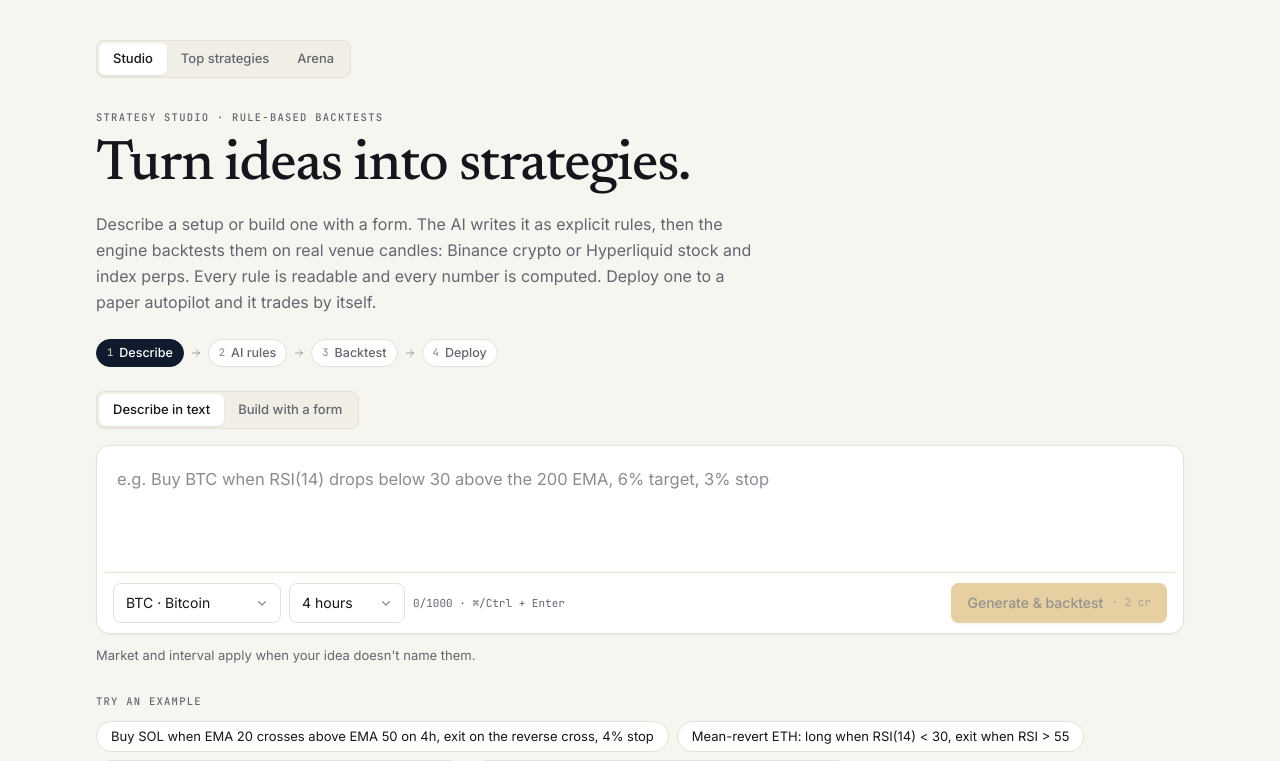
Scenario: blocks invalid Slow period = 401 before generation
Click the button "Build with a form": (290, 410) [224, 394, 356, 426]
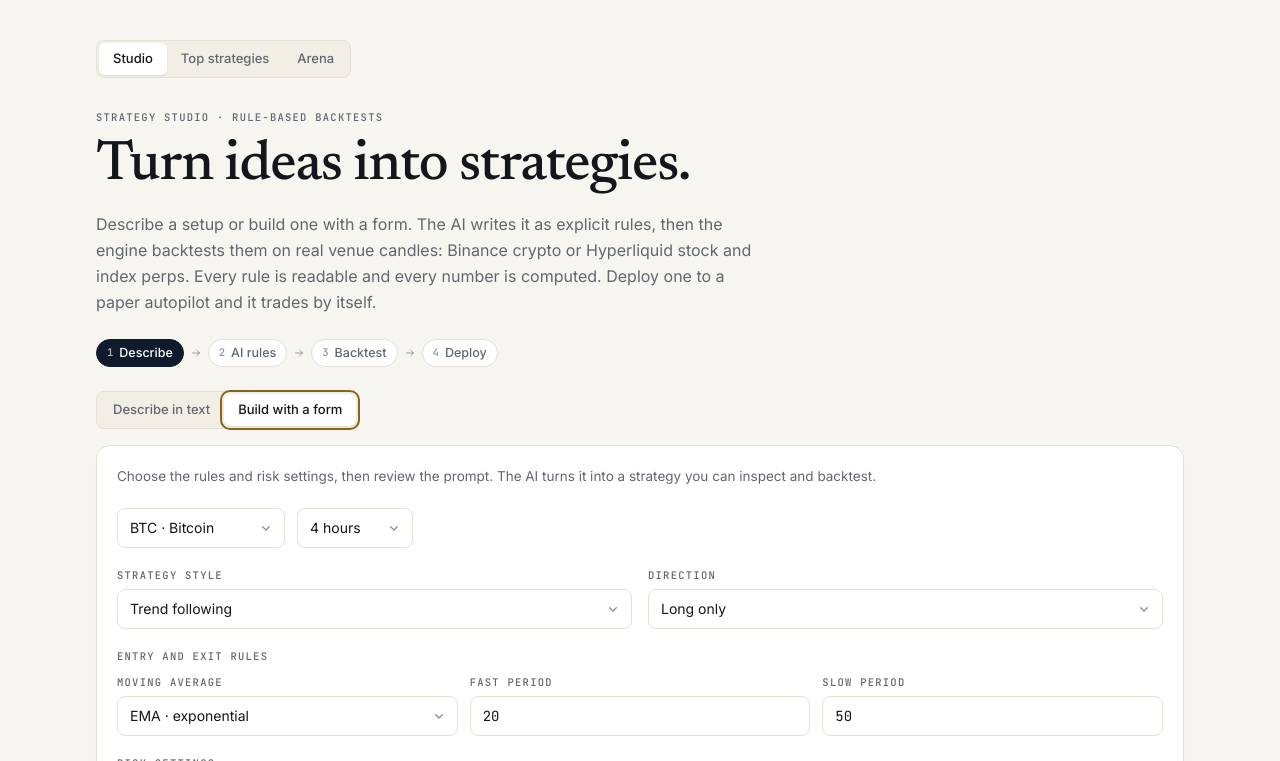
Replace the text in the number field labelled "Slow period" with "401": (993, 716) [822, 696, 1163, 736]
(page scrolled)
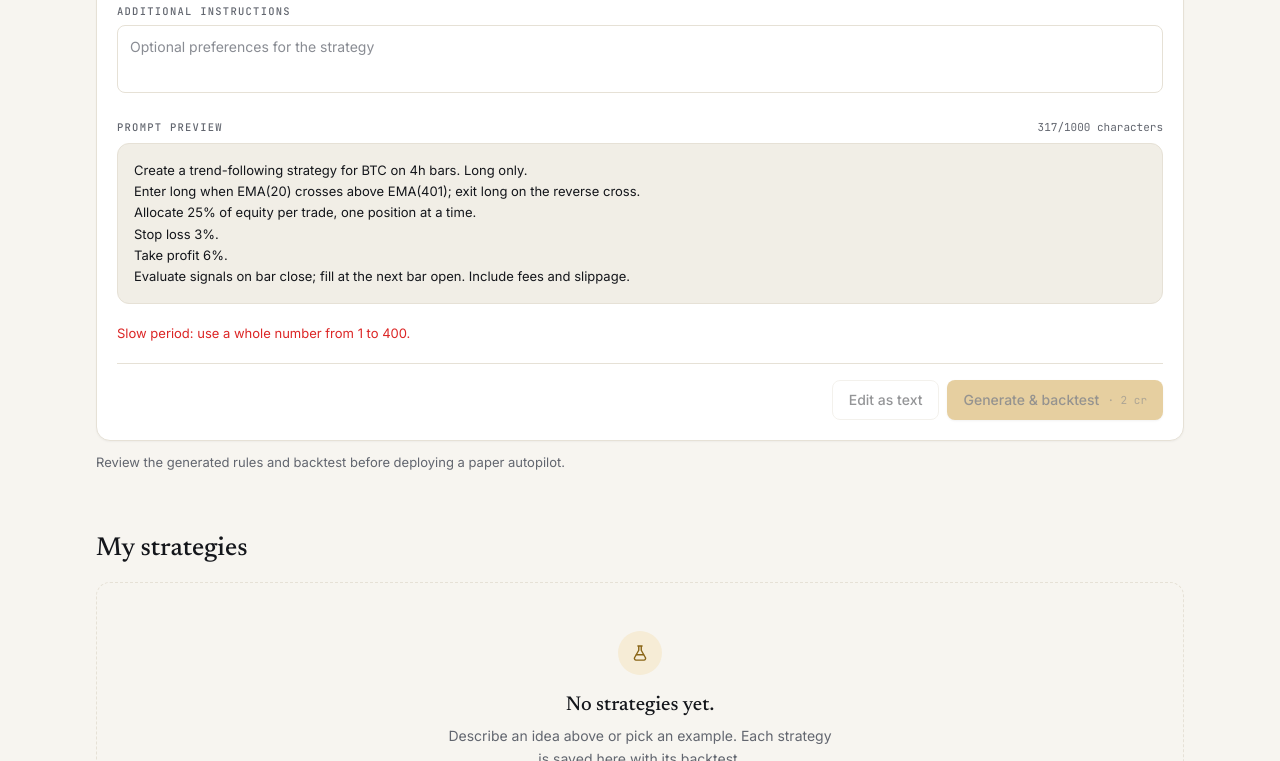
Expected: the message shows "whole number from 1 to 400", [117, 325, 410, 341]
Expected: the button "Generate & backtest · 2 cr" is disabled, [948, 380, 1163, 420]
Expected: the button "Edit as text" is disabled, [832, 380, 940, 420]
